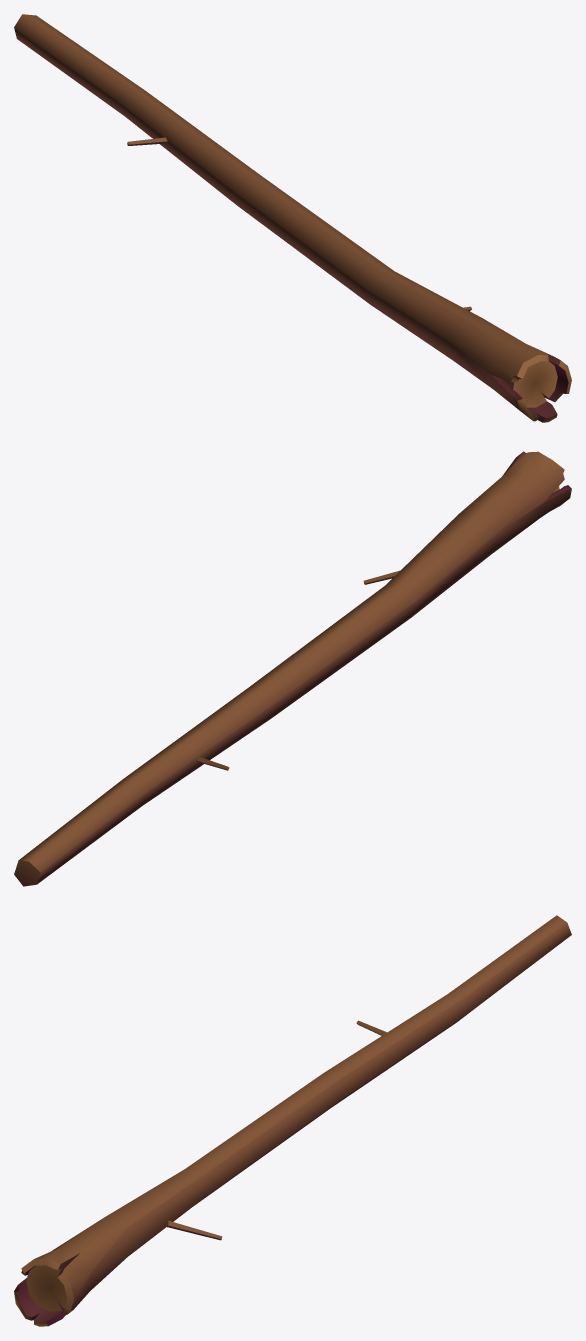
Rendered from Tree_Fallen_1B.fbx.
The picture shows the model from 3 angles, top to bottom: view 1: azimuth 30°, elevation 25°; view 2: azimuth 150°, elevation 25°; view 3: azimuth 330°, elevation 25°; orthographic projection.
Parts seen in each view (by area): view 1: Tree_Fallen_1B; view 2: Tree_Fallen_1B; view 3: Tree_Fallen_1B.
Part boxes in pixels (<box>): Tree_Fallen_1B: <box>14,14,571,422</box>; Tree_Fallen_1B: <box>14,451,571,886</box>; Tree_Fallen_1B: <box>14,915,571,1326</box>.
Size of the model in its own units: 74.32 by 41.23 by 643.
